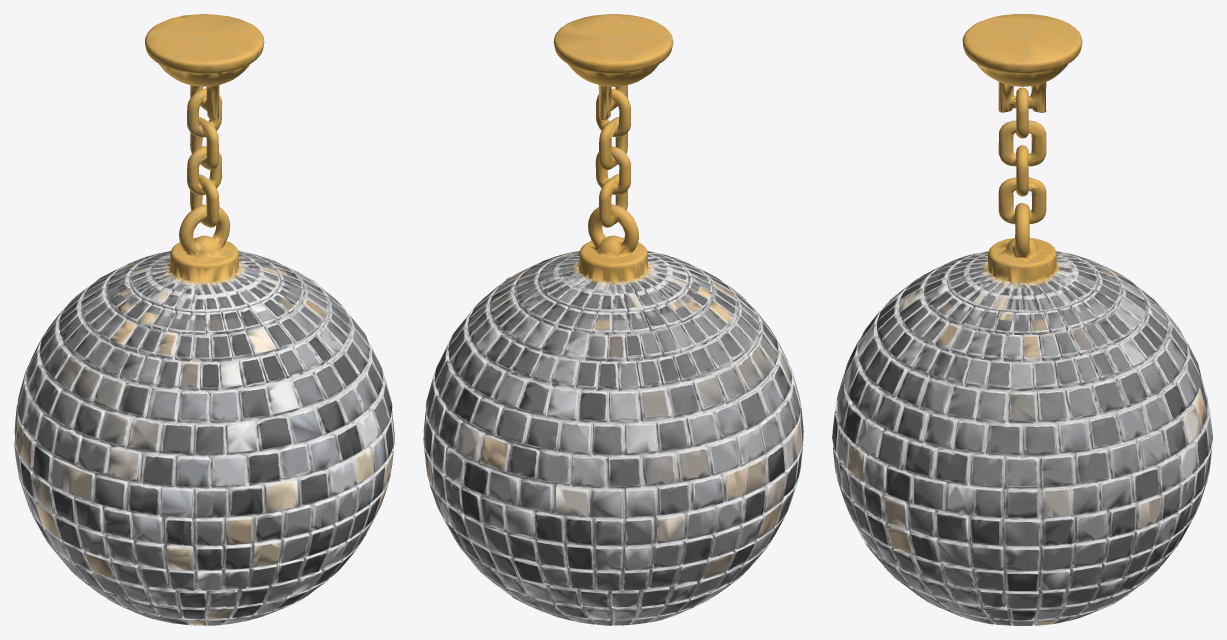
File: mirror_ball.glb
3 renders of one model, left to right at view 1: azimuth 30°, elevation 25°; view 2: azimuth 150°, elevation 25°; view 3: azimuth 270°, elevation 25°, orthographic.
Size of the model in its own units: 1.15 by 1.9 by 1.15.
Materials: 1 (1 with a texture image).
